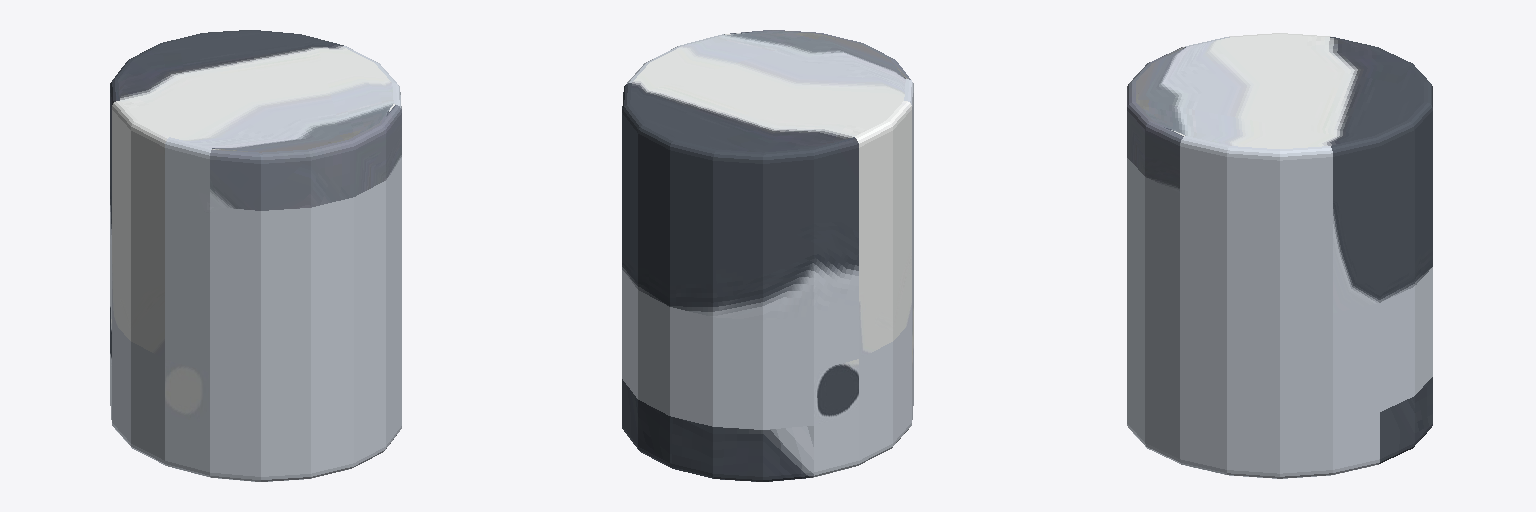
3 views of the same model, side by side, from view 1: azimuth 30°, elevation 25°; view 2: azimuth 150°, elevation 25°; view 3: azimuth 270°, elevation 25° (orthographic).
Visible parts, largest first — view 1: Cylinder007; view 2: Cylinder007; view 3: Cylinder007.
Part boxes in pixels (left/top/right/bottom): Cylinder007: left=110, top=30, right=401, bottom=481; Cylinder007: left=622, top=30, right=913, bottom=481; Cylinder007: left=1127, top=33, right=1432, bottom=478.
Bounding box in the file's own units: 33.54 × 42 × 35.45.
1 materials, 1 textured.